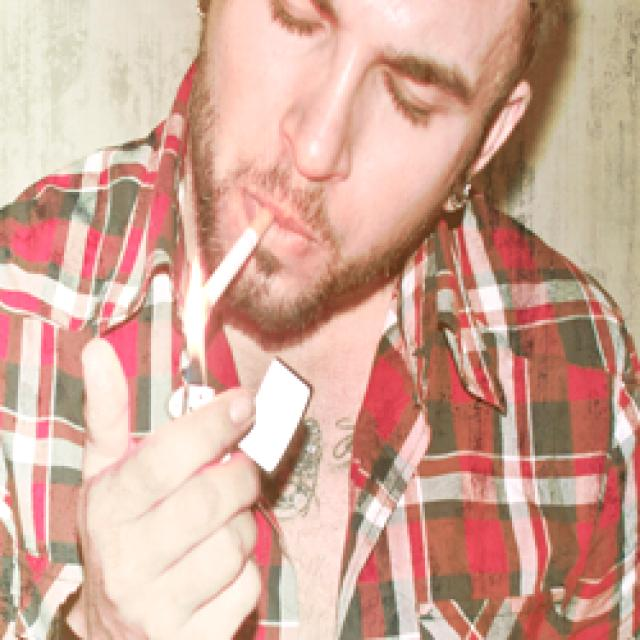Smooking: (204, 206, 276, 332)
